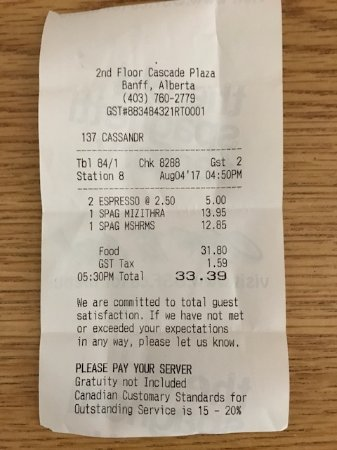Additional details: (58, 288, 269, 425)
Purchase summary: (57, 128, 265, 286)
Receipt: (41, 26, 288, 430)
Shop details: (57, 60, 262, 124)
